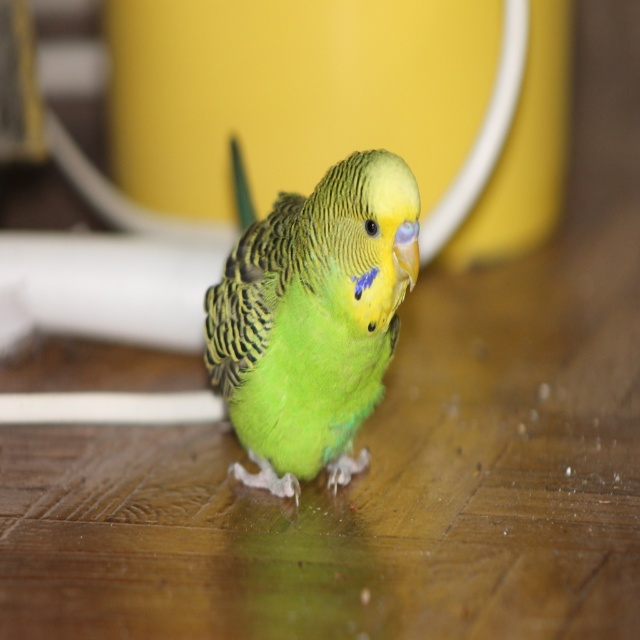Parrot: (202, 147, 421, 507)
